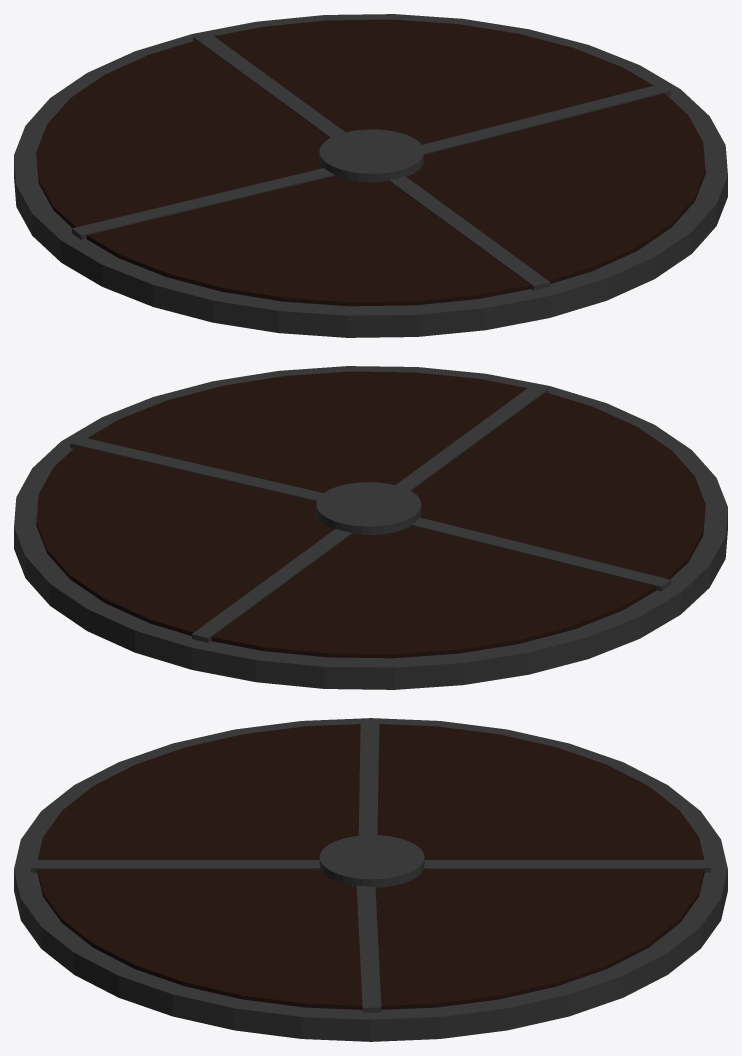
The model's file is Shieldpowerup.fbx.
The picture shows the model from 3 angles, top to bottom: view 1: azimuth 30°, elevation 25°; view 2: azimuth 150°, elevation 25°; view 3: azimuth 270°, elevation 25°; orthographic projection.
Parts seen in each view (by area): view 1: Cylinder.002, Cylinder.001, Cylinder, Cube.004, Cube.003, Cube.005, Cube.006; view 2: Cylinder.002, Cylinder.001, Cylinder, Cube.004, Cube.003, Cube.006, Cube.005; view 3: Cylinder.002, Cylinder.001, Cylinder, Cube.005, Cube.006, Cube.003, Cube.004.
Part boxes in pixels (left/top/right/bottom): Cylinder.002: left=36, top=19, right=705, bottom=306; Cylinder.001: left=14, top=14, right=727, bottom=337; Cylinder: left=319, top=129, right=424, bottom=182; Cube.004: left=72, top=168, right=334, bottom=239; Cube.003: left=422, top=83, right=671, bottom=154; Cube.005: left=388, top=176, right=550, bottom=290; Cube.006: left=193, top=33, right=344, bottom=137; Cylinder.002: left=36, top=371, right=705, bottom=658; Cylinder.001: left=14, top=366, right=727, bottom=689; Cylinder: left=316, top=482, right=421, bottom=534; Cube.004: left=411, top=517, right=670, bottom=591; Cube.003: left=70, top=436, right=322, bottom=501; Cube.006: left=192, top=529, right=351, bottom=642; Cube.005: left=395, top=385, right=548, bottom=490; Cylinder.002: left=37, top=724, right=704, bottom=1009; Cylinder.001: left=14, top=718, right=727, bottom=1041; Cylinder: left=319, top=835, right=424, bottom=887; Cube.005: left=31, top=860, right=320, bottom=872; Cube.006: left=423, top=860, right=710, bottom=872; Cube.003: left=356, top=885, right=381, bottom=1012; Cube.004: left=358, top=720, right=379, bottom=835.
Size of the model in its own units: 1989 by 354 by 1989.
